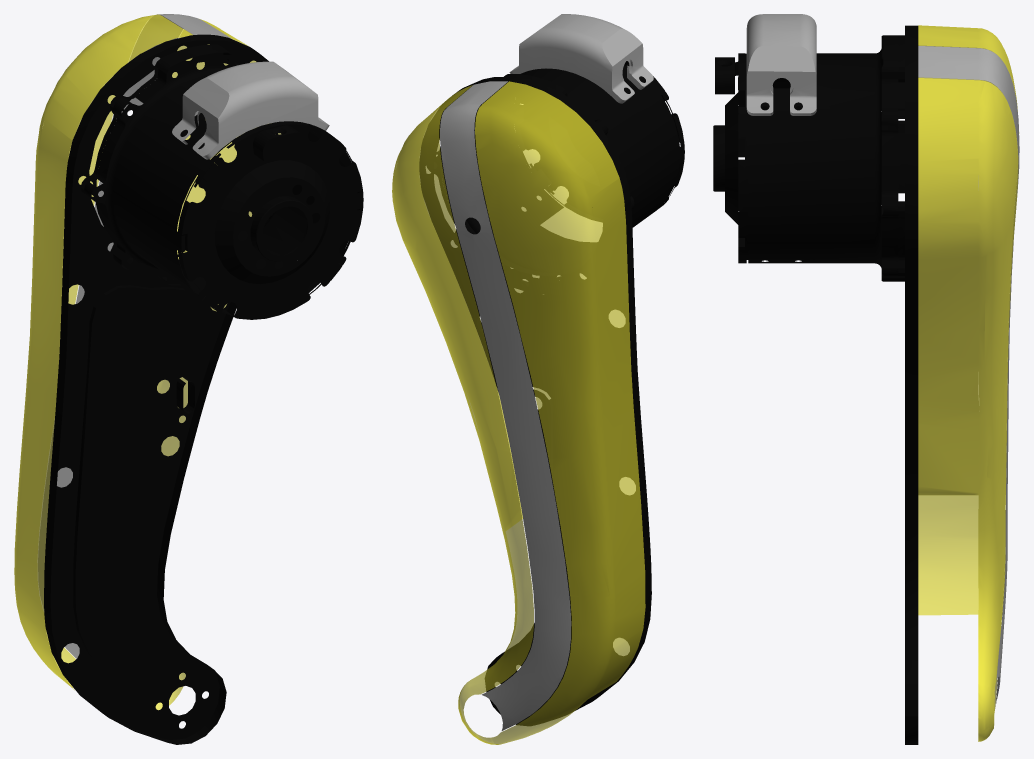
The model's file is L_THIGH.dae.
3 views of the same model, side by side, from view 1: azimuth 30°, elevation 25°; view 2: azimuth 150°, elevation 25°; view 3: azimuth 270°, elevation 25° (orthographic). The views are drawn at different scales.
Parts seen in each view (by area): view 1: FL_THIGH_-_________________-1.058, FL_THIGH_-_________________-1.060, FL_THIGH_-_________________-1, FL_THIGH_-_________________-1.056, FL_THIGH_-_________________-1.057, FL_THIGH_-_________________-1.059, FL_THIGH_-_________________-1.042, FL_THIGH_-_________________-1.036, FL_THIGH_-_________________-1.032, FL_THIGH_-_________________-1.040, FL_THIGH_-_________________-1.033, FL_THIGH_-_________________-1.037 (+2 smaller); view 2: FL_THIGH_-_________________-1.060, FL_THIGH_-_________________-1.058, FL_THIGH_-_________________-1.059, FL_THIGH_-_________________-1, FL_THIGH_-_________________-1.057, FL_THIGH_-_________________-1.056, FL_THIGH_-_________________-1.037; view 3: FL_THIGH_-_________________-1.060, FL_THIGH_-_________________-1, FL_THIGH_-_________________-1.058, FL_THIGH_-_________________-1.057, FL_THIGH_-_________________-1.059, FL_THIGH_-_________________-1.037, FL_THIGH_-_________________-1.039, FL_THIGH_-_________________-1.052.
Part boxes in pixels (left/top/right/bottom): FL_THIGH_-_________________-1.058: left=44, top=34, right=279, bottom=744; FL_THIGH_-_________________-1.060: left=14, top=14, right=281, bottom=710; FL_THIGH_-_________________-1: left=80, top=44, right=363, bottom=314; FL_THIGH_-_________________-1.056: left=182, top=124, right=362, bottom=319; FL_THIGH_-_________________-1.057: left=172, top=61, right=329, bottom=159; FL_THIGH_-_________________-1.059: left=38, top=14, right=231, bottom=658; FL_THIGH_-_________________-1.042: left=233, top=177, right=325, bottom=276; FL_THIGH_-_________________-1.036: left=244, top=160, right=309, bottom=196; FL_THIGH_-_________________-1.032: left=214, top=185, right=248, bottom=245; FL_THIGH_-_________________-1.040: left=257, top=200, right=312, bottom=261; FL_THIGH_-_________________-1.033: left=215, top=245, right=269, bottom=284; FL_THIGH_-_________________-1.037: left=295, top=167, right=330, bottom=271; FL_THIGH_-_________________-1.060: left=392, top=81, right=645, bottom=744; FL_THIGH_-_________________-1.058: left=419, top=77, right=651, bottom=725; FL_THIGH_-_________________-1.059: left=440, top=81, right=571, bottom=730; FL_THIGH_-_________________-1: left=427, top=63, right=684, bottom=293; FL_THIGH_-_________________-1.057: left=509, top=14, right=653, bottom=103; FL_THIGH_-_________________-1.056: left=519, top=61, right=680, bottom=218; FL_THIGH_-_________________-1.037: left=549, top=117, right=590, bottom=176; FL_THIGH_-_________________-1.060: left=918, top=25, right=1019, bottom=741; FL_THIGH_-_________________-1: left=738, top=35, right=904, bottom=281; FL_THIGH_-_________________-1.058: left=905, top=25, right=918, bottom=744; FL_THIGH_-_________________-1.057: left=746, top=14, right=816, bottom=115; FL_THIGH_-_________________-1.059: left=918, top=46, right=1019, bottom=703; FL_THIGH_-_________________-1.037: left=725, top=130, right=738, bottom=224; FL_THIGH_-_________________-1.039: left=714, top=125, right=724, bottom=191; FL_THIGH_-_________________-1.052: left=738, top=132, right=748, bottom=193.
Bounding box in the file's own units: 0.0856 × 0.0918 × 0.2367.
